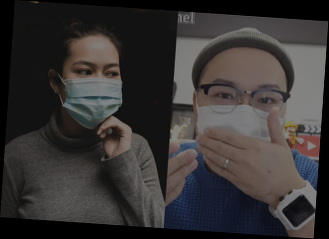with_mask: (195, 79, 288, 153), (61, 60, 123, 132)
